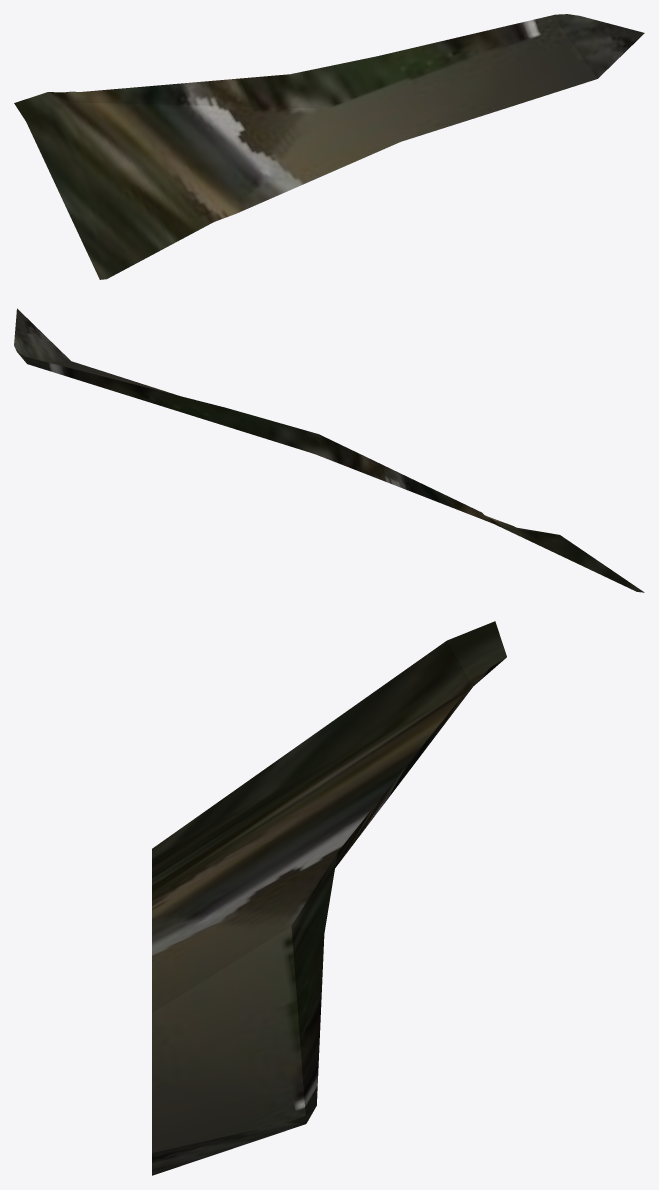
The picture shows the model from 3 angles, top to bottom: view 1: azimuth 30°, elevation 25°; view 2: azimuth 150°, elevation 25°; view 3: azimuth 270°, elevation 25°; orthographic projection. The views are drawn at different scales.
Bounding box in the file's own units: 0.5805 × 0.1169 × 0.1638.
Materials: 1 (1 with a texture image).
